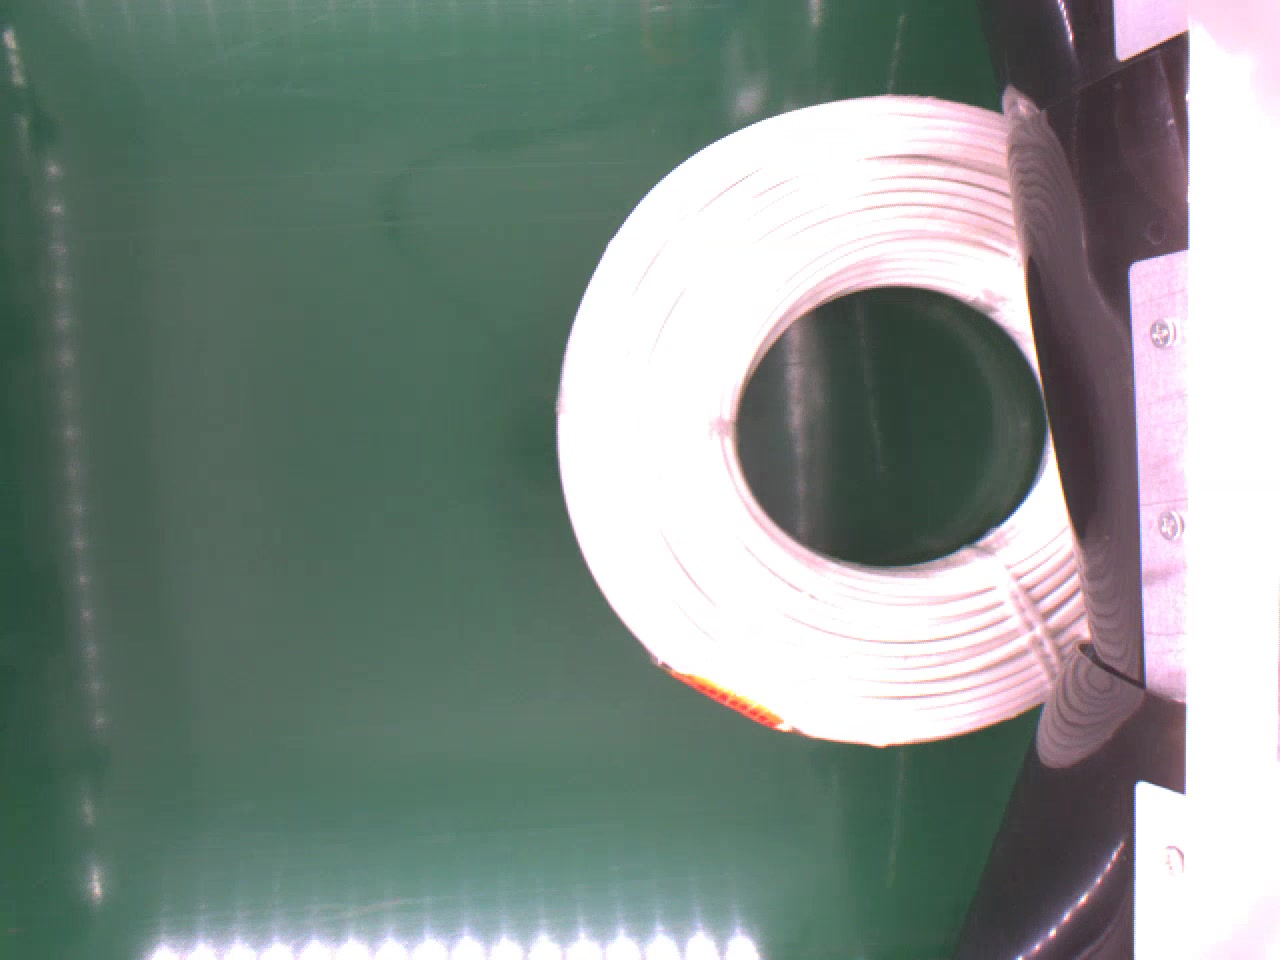white: (548, 90, 1085, 747)
